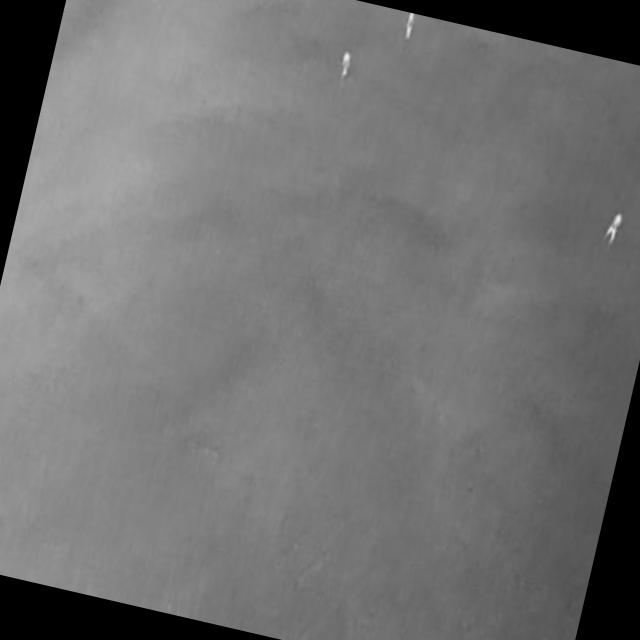person: (603, 208, 625, 246), (338, 50, 354, 81), (401, 13, 416, 40)
